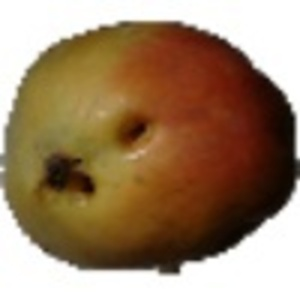mamão: (2, 23, 295, 279)
